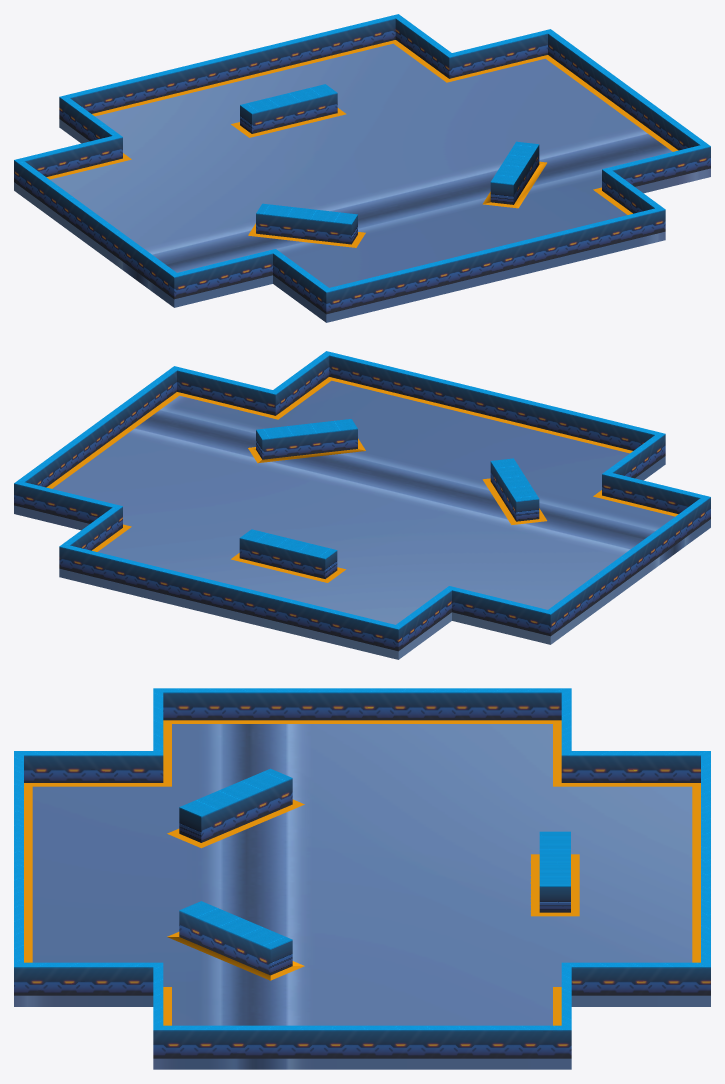
File: Battle_Stage 45.fbx
3 renders of one model, top to bottom at view 1: azimuth 30°, elevation 25°; view 2: azimuth 150°, elevation 25°; view 3: azimuth 270°, elevation 25°, orthographic. The views are drawn at different scales.
Visible parts, largest first — view 1: DB_Platform_Cube__1_.002, DB_Platform_Cube__1_.003, DB_Platform_Cube__1_.004; view 2: DB_Platform_Cube__1_.002, DB_Platform_Cube__1_.003, DB_Platform_Cube__1_.004; view 3: DB_Platform_Cube__1_.002, DB_Platform_Cube__1_.003, DB_Platform_Cube__1_.004.
Part boxes in pixels (box(x1,y1,x2,y2)): DB_Platform_Cube__1_.002: box(14, 43, 710, 322); DB_Platform_Cube__1_.003: box(14, 14, 710, 314); DB_Platform_Cube__1_.004: box(46, 40, 678, 247); DB_Platform_Cube__1_.002: box(14, 380, 710, 659); DB_Platform_Cube__1_.003: box(14, 351, 710, 651); DB_Platform_Cube__1_.004: box(46, 377, 678, 582); DB_Platform_Cube__1_.002: box(14, 724, 710, 1069); DB_Platform_Cube__1_.003: box(14, 688, 710, 1058); DB_Platform_Cube__1_.004: box(24, 720, 700, 1025).
Bounding box in the file's own units: 6525 × 358 × 5625.
